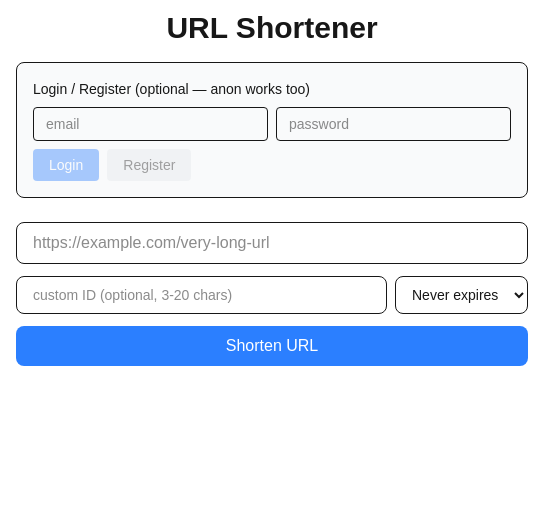
Scenario: Home Page › clears previous error on new submission
# Submit with error
Type "https://example.com" into the field with placeholder "https://example.com/very-long-url". click: (272, 243)
box: [16, 222, 528, 264]
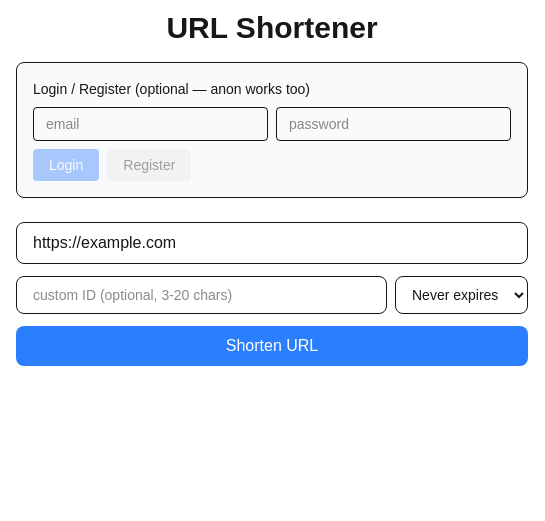
Submit the form with placeholder "https://example.com/very-long-url", box [16, 222, 528, 366]
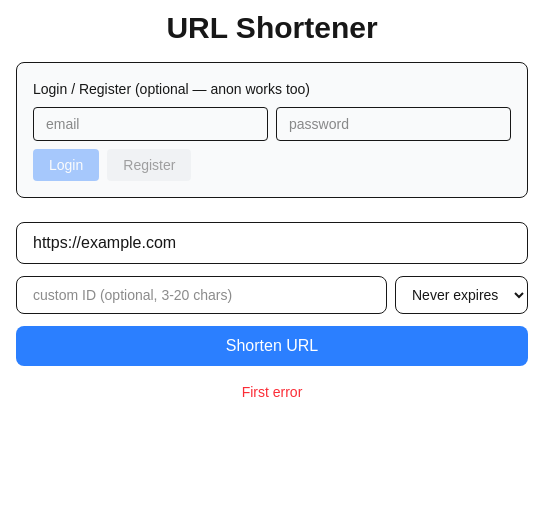
Expected: the text "First error" is shown, [242, 382, 302, 402]
Replace the text in the field with placeholder "https://example.com/very-long-url" with "https://example.org". click: (272, 243)
box: [16, 222, 528, 264]
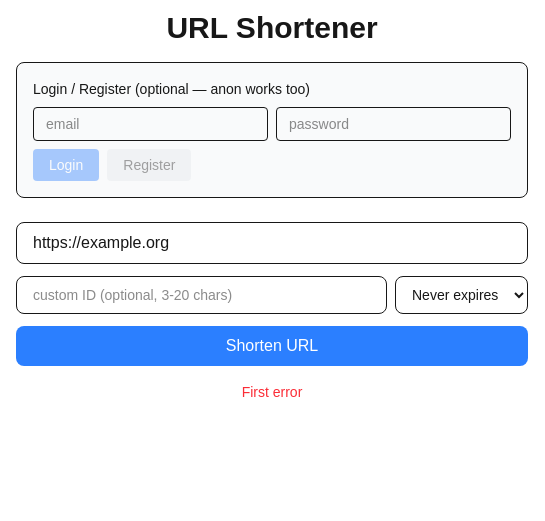
Submit the form with placeholder "https://example.com/very-long-url", box [16, 222, 528, 366]
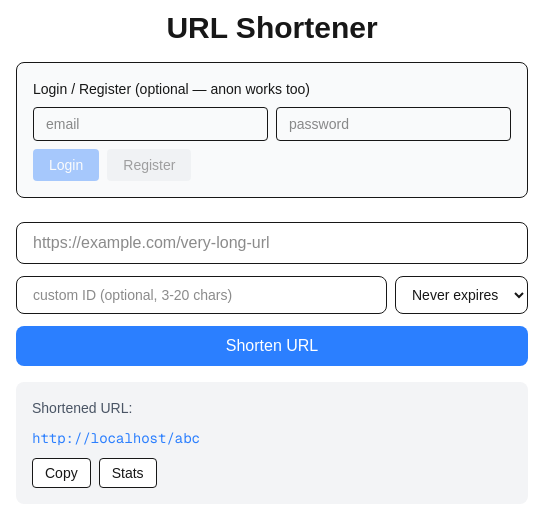
Expected: the text "First error" is gone
Expected: the link "http://localhost/abc" is shown, [32, 429, 200, 447]
